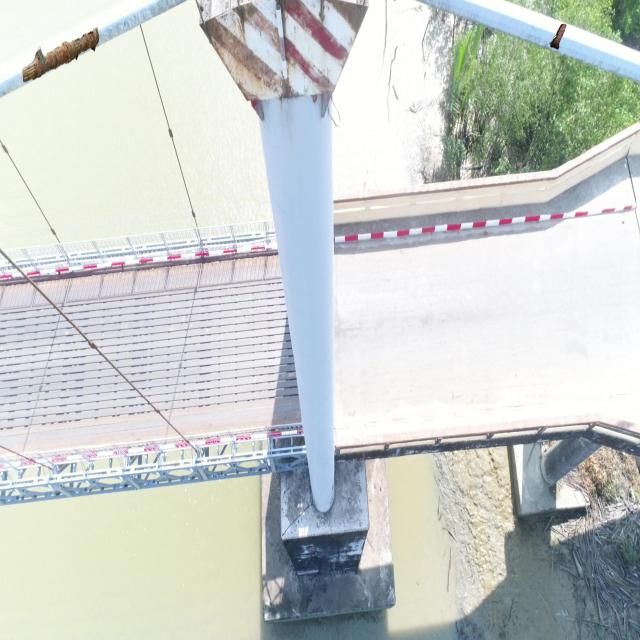corrosion: (22, 26, 100, 82), (549, 23, 567, 51)
